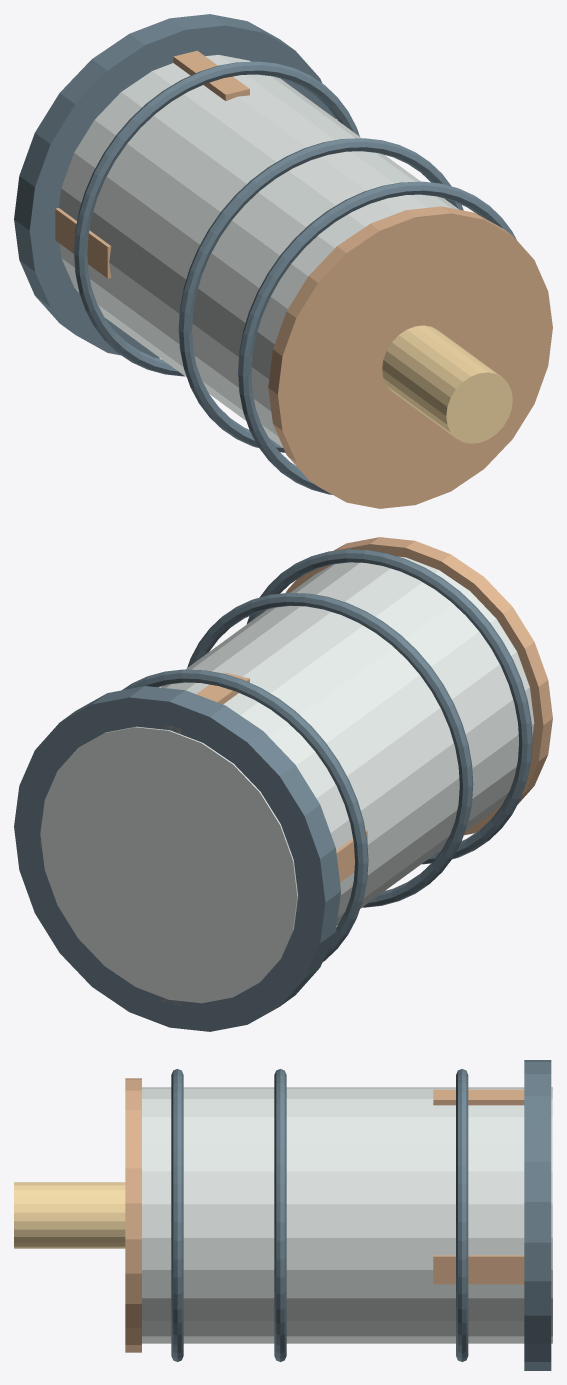
The model's file is reservoir.glb.
The picture shows the model from 3 angles, top to bottom: view 1: azimuth 30°, elevation 25°; view 2: azimuth 150°, elevation 25°; view 3: azimuth 270°, elevation 25°; orthographic projection. The views are drawn at different scales.
Visible parts, largest first — view 1: reservoir, upper-collar, base-ring, telemetry-mast, steel-belt-0, steel-belt-1, steel-belt-2, foot-0, foot-2; view 2: reservoir, base-ring, steel-belt-1, steel-belt-2, upper-collar, steel-belt-0, foot-0, foot-2; view 3: reservoir, base-ring, telemetry-mast, upper-collar, steel-belt-0, steel-belt-1, steel-belt-2, foot-1, foot-2.
Boxes of the visible parts, x1=… form: reservoir: x1=59, y1=54, x2=458, y2=447; upper-collar: x1=268, y1=206, x2=552, y2=508; base-ring: x1=14, y1=14, x2=336, y2=358; telemetry-mast: x1=382, y1=325, x2=512, y2=443; steel-belt-0: x1=74, y1=61, x2=359, y2=376; steel-belt-1: x1=178, y1=138, x2=463, y2=452; steel-belt-2: x1=238, y1=181, x2=516, y2=494; foot-0: x1=55, y1=208, x2=111, y2=278; foot-2: x1=173, y1=50, x2=249, y2=100; reservoir: x1=40, y1=556, x2=534, y2=1003; base-ring: x1=14, y1=686, x2=340, y2=1031; steel-belt-1: x1=187, y1=593, x2=473, y2=907; steel-belt-2: x1=247, y1=549, x2=532, y2=864; upper-collar: x1=286, y1=537, x2=552, y2=835; steel-belt-0: x1=122, y1=669, x2=368, y2=961; foot-0: x1=296, y1=830, x2=367, y2=911; foot-2: x1=164, y1=672, x2=249, y2=734; reservoir: x1=142, y1=1087, x2=552, y2=1343; base-ring: x1=524, y1=1060, x2=551, y2=1370; telemetry-mast: x1=14, y1=1182, x2=125, y2=1248; upper-collar: x1=125, y1=1078, x2=141, y2=1352; steel-belt-0: x1=456, y1=1069, x2=468, y2=1361; steel-belt-1: x1=274, y1=1069, x2=286, y2=1361; steel-belt-2: x1=171, y1=1069, x2=183, y2=1361; foot-1: x1=433, y1=1255, x2=524, y2=1284; foot-2: x1=433, y1=1089, x2=524, y2=1105.
Size of the model in its own units: 2.06 by 2.06 by 3.56.
